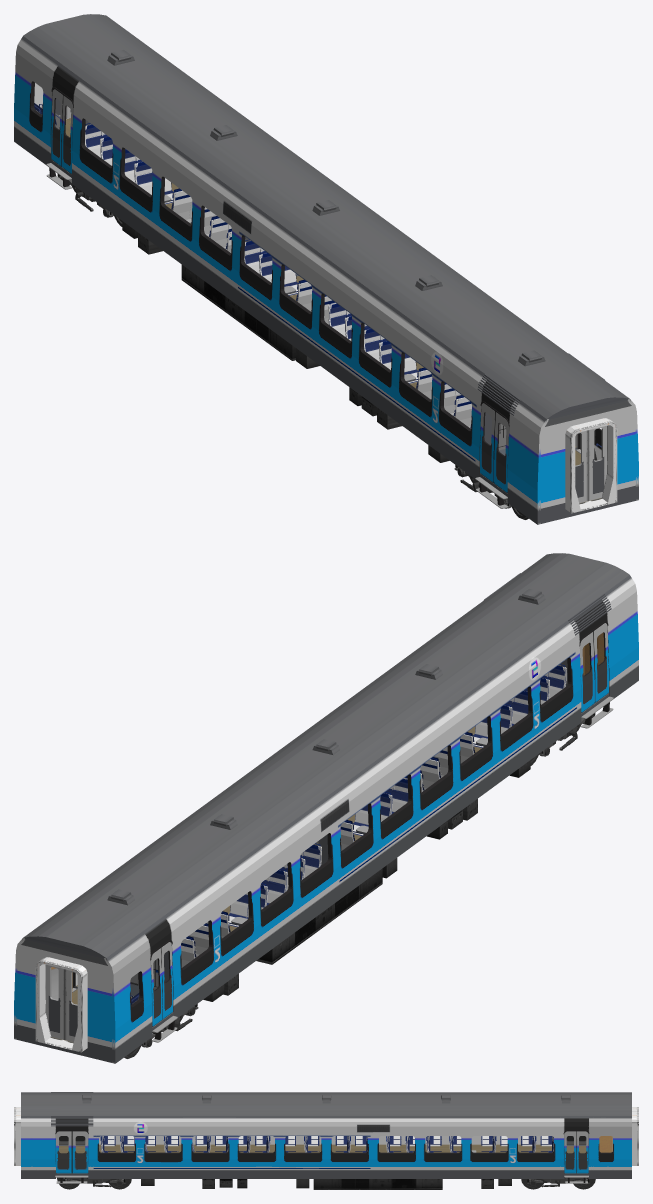
The model's file is nsicmcarriage_second.obj.
3 views of the same model, one above another, from view 1: azimuth 30°, elevation 25°; view 2: azimuth 150°, elevation 25°; view 3: azimuth 270°, elevation 25° (orthographic). The views are drawn at different scales.
Parts seen in each view (by area): view 1: side, jibung, chair_second, backout, habu, mak, jibungparts, backdoor, door_RB, door_RF, sadari, DT71; view 2: side, jibung, chair_second, backout, habu, mak, jibungparts, backdoor, door_RF, door_RB, sadari, DT71 (+2 smaller); view 3: side, jibung, chair_second, badak, habu, DT71, inside, door_LB, door_LF, jibungparts, mak, sadari (+3 smaller).
Part boxes in pixels (left/top/right/bottom): side: left=14, top=21, right=638, bottom=524; jibung: left=23, top=14, right=628, bottom=418; chair_second: left=85, top=123, right=471, bottom=428; backout: left=541, top=397, right=635, bottom=523; habu: left=122, top=221, right=449, bottom=462; mak: left=66, top=118, right=617, bottom=513; jibungparts: left=107, top=50, right=605, bottom=415; backdoor: left=55, top=98, right=606, bottom=503; door_RB: left=51, top=89, right=495, bottom=483; door_RF: left=61, top=95, right=508, bottom=493; sadari: left=46, top=87, right=595, bottom=508; DT71: left=57, top=174, right=528, bottom=519; side: left=14, top=560, right=638, bottom=1063; jibung: left=24, top=553, right=629, bottom=957; chair_second: left=181, top=664, right=566, bottom=967; backout: left=17, top=936, right=111, bottom=1062; habu: left=203, top=760, right=530, bottom=1001; mak: left=35, top=957, right=87, bottom=1052; jibungparts: left=107, top=573, right=611, bottom=905; backdoor: left=46, top=965, right=77, bottom=1042; door_RF: left=161, top=623, right=608, bottom=1019; door_RB: left=151, top=631, right=594, bottom=1026; sadari: left=72, top=621, right=613, bottom=1042; DT71: left=124, top=713, right=595, bottom=1058; side: left=21, top=1116, right=631, bottom=1178; jibung: left=21, top=1092, right=631, bottom=1115; chair_second: left=100, top=1136, right=553, bottom=1152; badak: left=59, top=1144, right=586, bottom=1153; habu: left=141, top=1179, right=511, bottom=1189; DT71: left=57, top=1177, right=595, bottom=1189; inside: left=99, top=1136, right=553, bottom=1144; door_LB: left=72, top=1131, right=588, bottom=1173; door_LF: left=56, top=1131, right=576, bottom=1173; jibungparts: left=51, top=1092, right=570, bottom=1126; mak: left=14, top=1107, right=638, bottom=1165; sadari: left=55, top=1130, right=589, bottom=1183.
Size of the model in its own units: 3.17 by 3.95 by 26.09.
24 materials, 24 textured.
